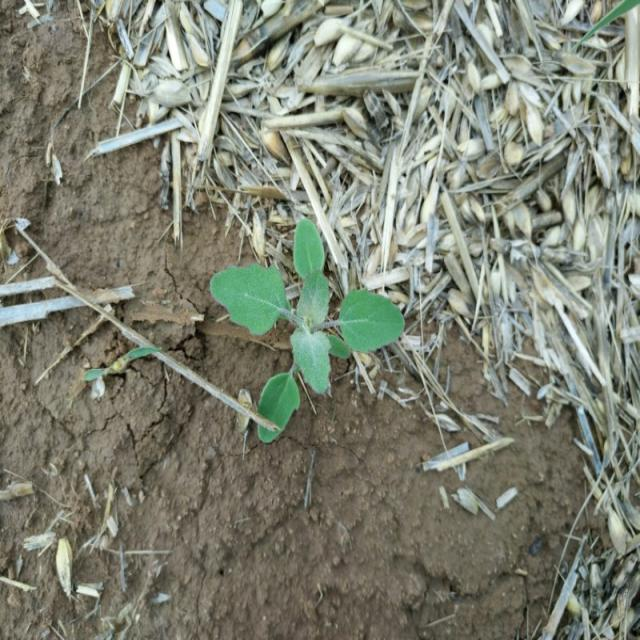goosefoots: (187, 218, 416, 444)
